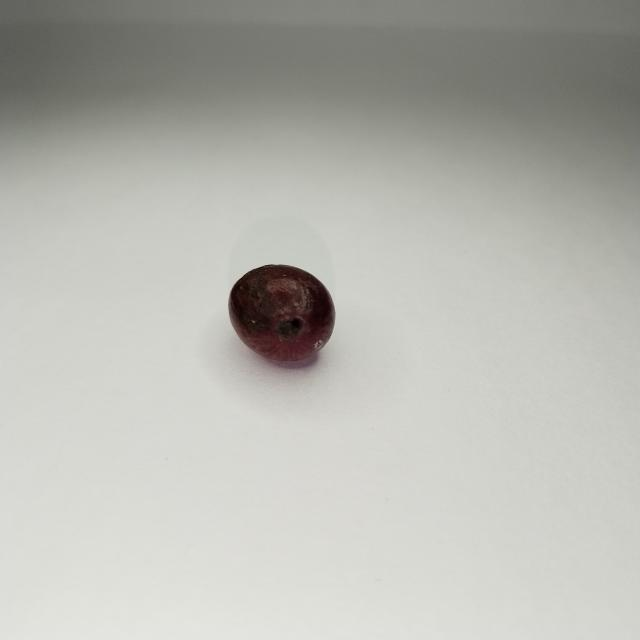Infectado: (227, 265, 336, 365)
